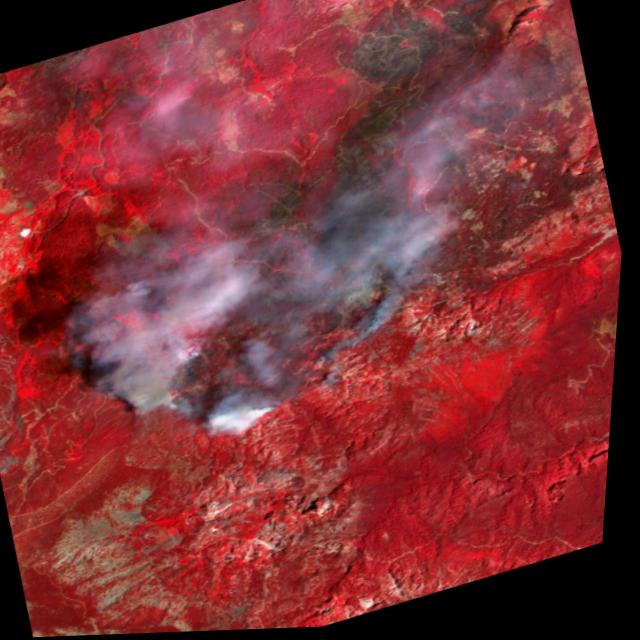fire: (107, 281, 420, 470)
